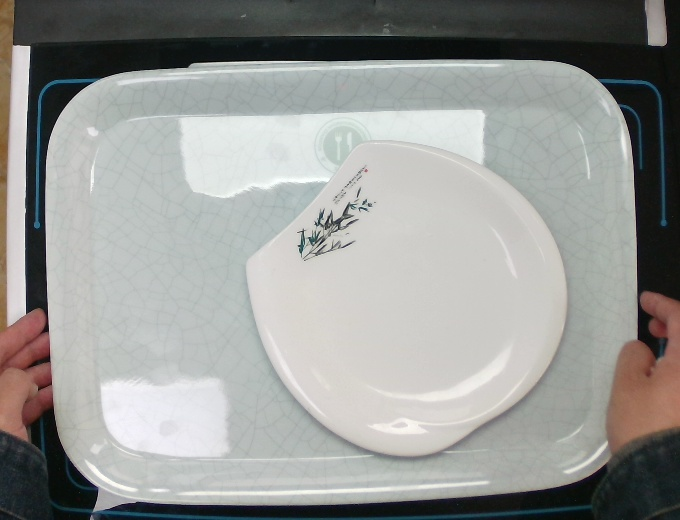JYsf-Mian_Pan: (245, 138, 569, 455)
